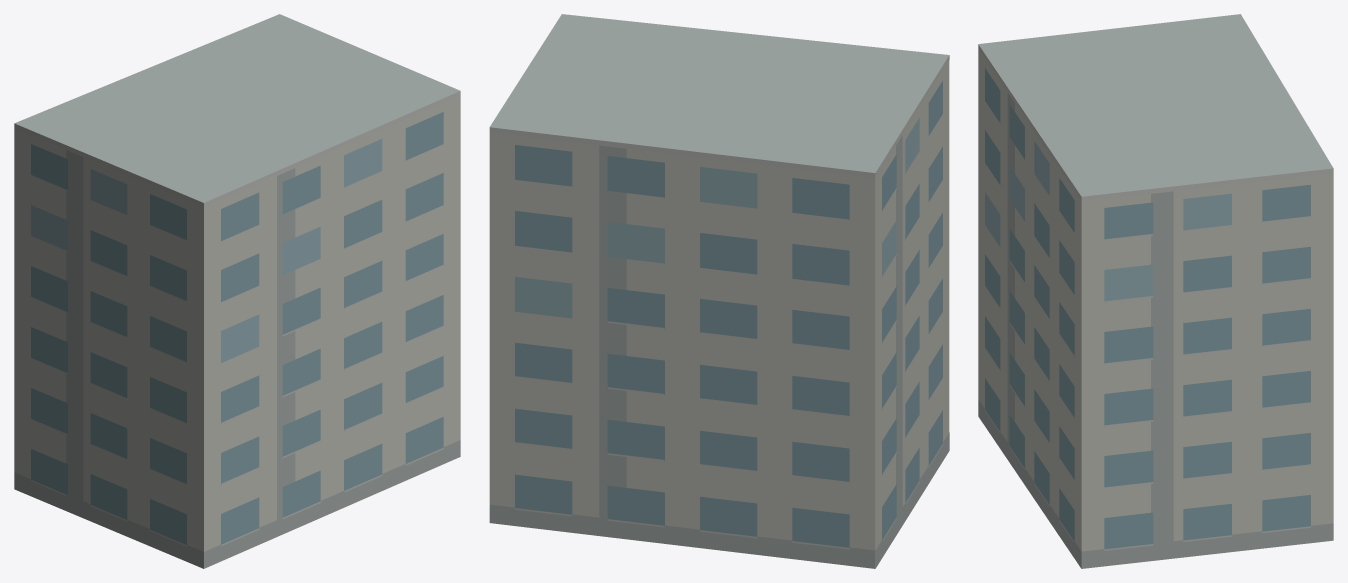
Rendered from survey-upis-32652225.glb.
3 views of the same model, side by side, from view 1: azimuth 30°, elevation 25°; view 2: azimuth 150°, elevation 25°; view 3: azimuth 270°, elevation 25° (orthographic). The views are drawn at different scales.
Parts seen in each view (by area): view 1: survey-upis-32652225.tmp; view 2: survey-upis-32652225.tmp; view 3: survey-upis-32652225.tmp.
Part boxes in pixels (x1,y1,x2,y2): survey-upis-32652225.tmp: [14, 14, 460, 568]; survey-upis-32652225.tmp: [489, 14, 949, 568]; survey-upis-32652225.tmp: [978, 14, 1333, 568].
Bounding box in the file's own units: 19.28 × 18.3 × 15.85.
